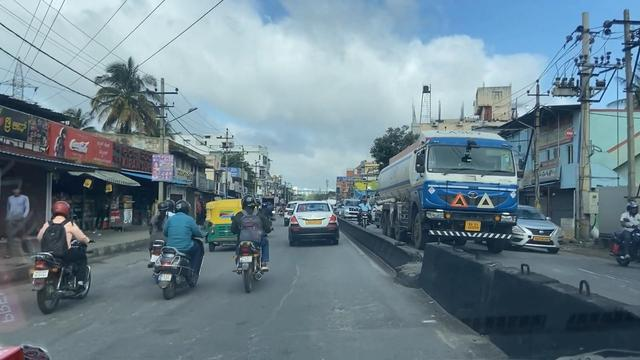LMV: (152, 202, 200, 303), (235, 194, 263, 298), (291, 202, 338, 251)
RoadDamages: (164, 322, 264, 359), (327, 299, 366, 327), (281, 262, 300, 295)
